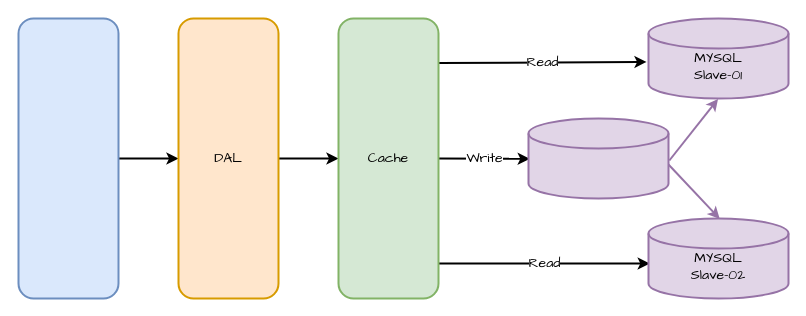
Image size: 806x316. Some labels were removed from this diagram. The shapes that lost their labels are listed below. From the top down, each one's box as (x1, y1, x2, y2) in pixels, then its label:
(17, 17, 119, 299): App
(527, 117, 669, 199): MYSQL Master
